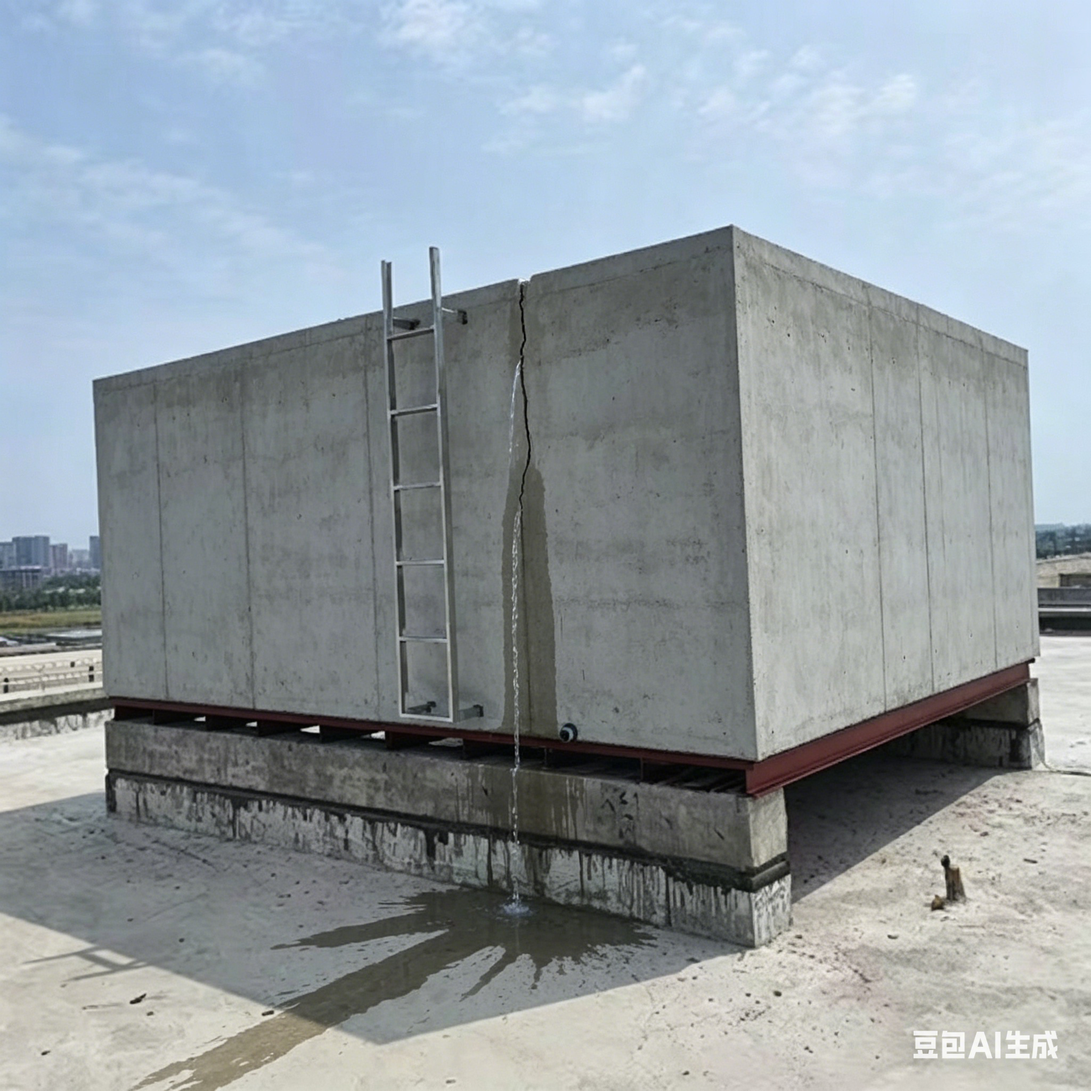Leakage: (495, 299, 570, 961), (259, 949, 461, 1003), (321, 915, 503, 941)
